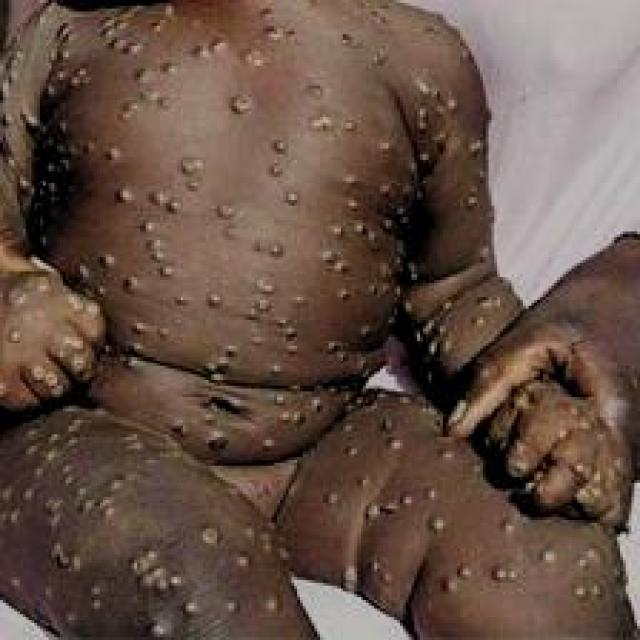monkeypox: (0, 5, 620, 640)
